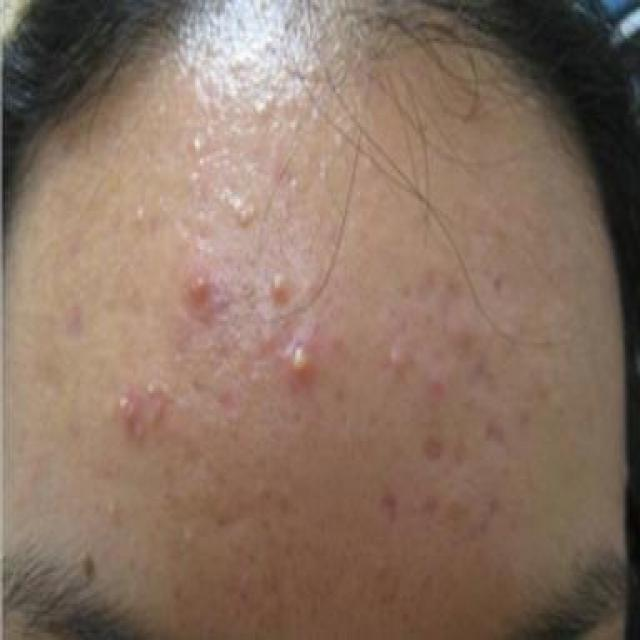9: (267, 338, 333, 410), (162, 261, 232, 309)
blackheads: (425, 407, 463, 501), (372, 470, 408, 551), (475, 415, 520, 477)
papules: (123, 383, 155, 482)
